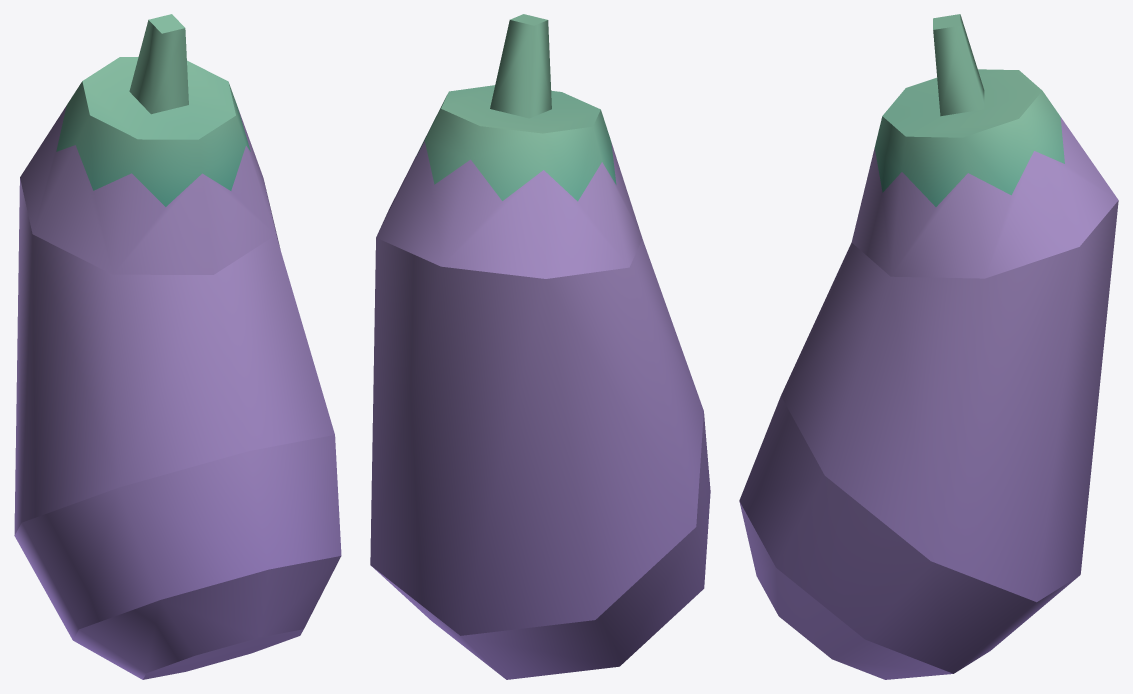
File: eggplant.glb
The picture shows the model from 3 angles, left to right: view 1: azimuth 30°, elevation 25°; view 2: azimuth 150°, elevation 25°; view 3: azimuth 270°, elevation 25°; orthographic projection. The views are drawn at different scales.
Visible parts, largest first — view 1: eggplant; view 2: eggplant; view 3: eggplant.
Part boxes in pixels (x1,y1,x2,y2): eggplant: (14, 14, 341, 679); eggplant: (370, 14, 710, 679); eggplant: (739, 14, 1118, 679).
Bounding box in the file's own units: 0.204 × 0.4052 × 0.2156.
